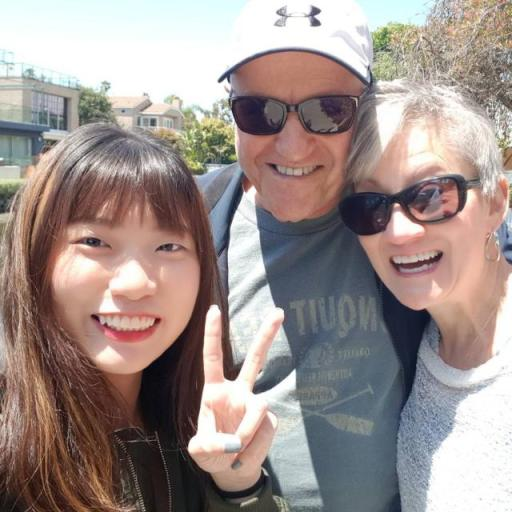Under Armour: (272, 3, 324, 30)
